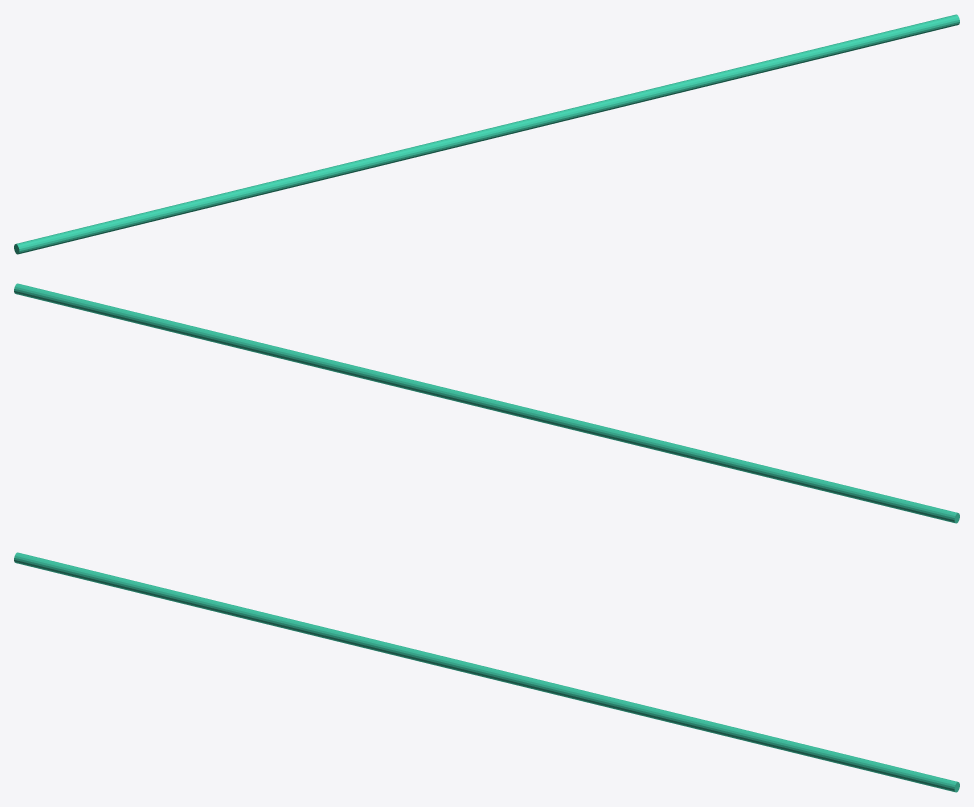
File: cable.fbx
3 renders of one model, top to bottom at view 1: azimuth 30°, elevation 25°; view 2: azimuth 150°, elevation 25°; view 3: azimuth 330°, elevation 25°, orthographic.
Parts seen in each view (by area): view 1: Cylinder; view 2: Cylinder; view 3: Cylinder.
Part boxes in pixels (x1,y1,x2,y2): Cylinder: (14,14,959,254); Cylinder: (14,283,959,523); Cylinder: (14,552,959,792).
Size of the model in its own units: 20000 by 200 by 200.
